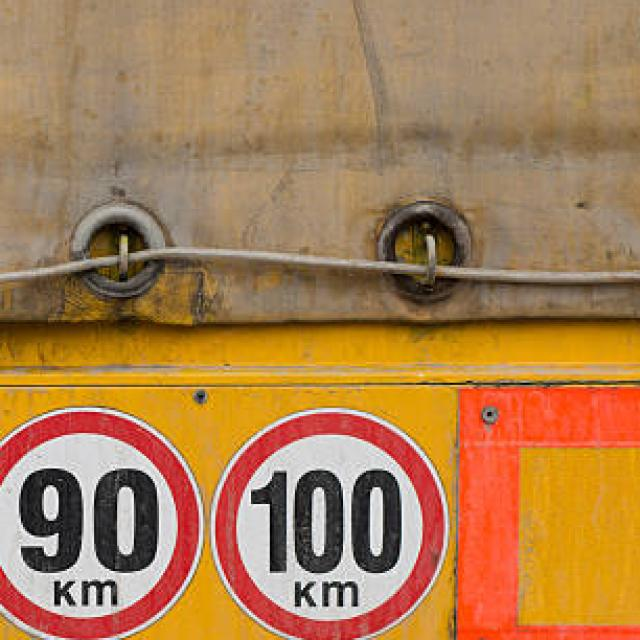Speed Limit -90-: (0, 403, 207, 640)
